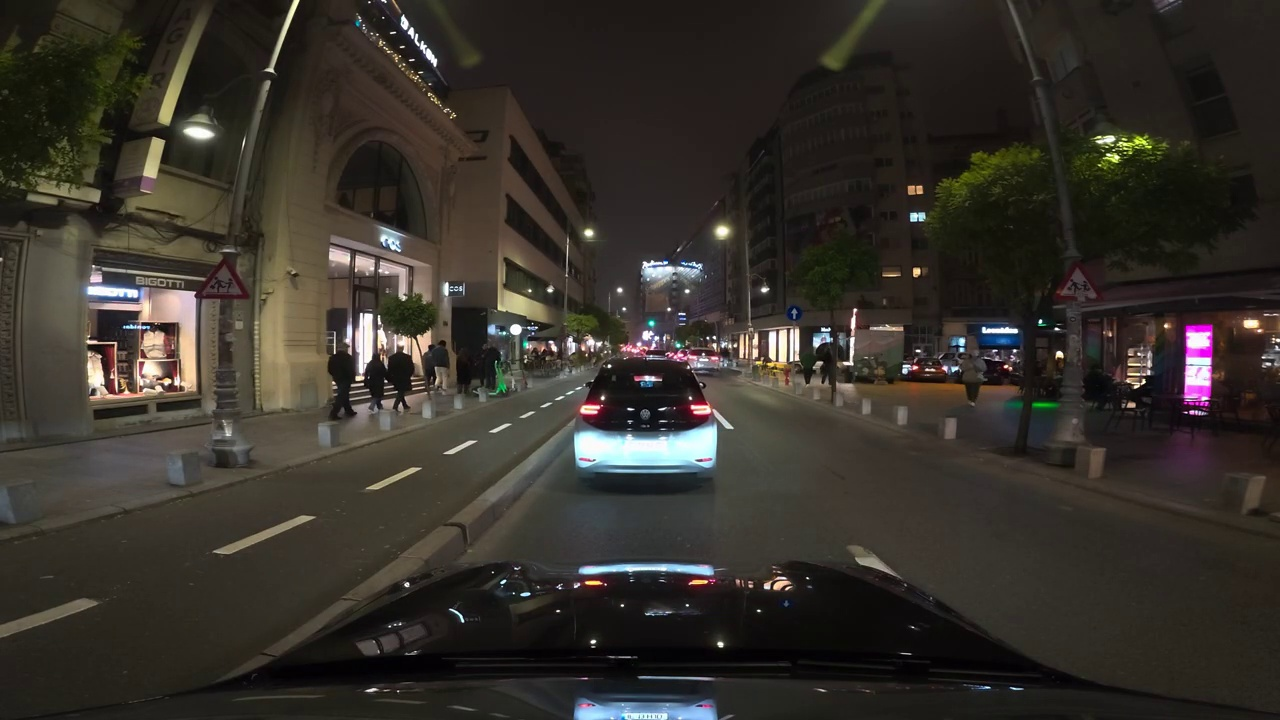acesa: (709, 220, 735, 244), (579, 223, 600, 245)
